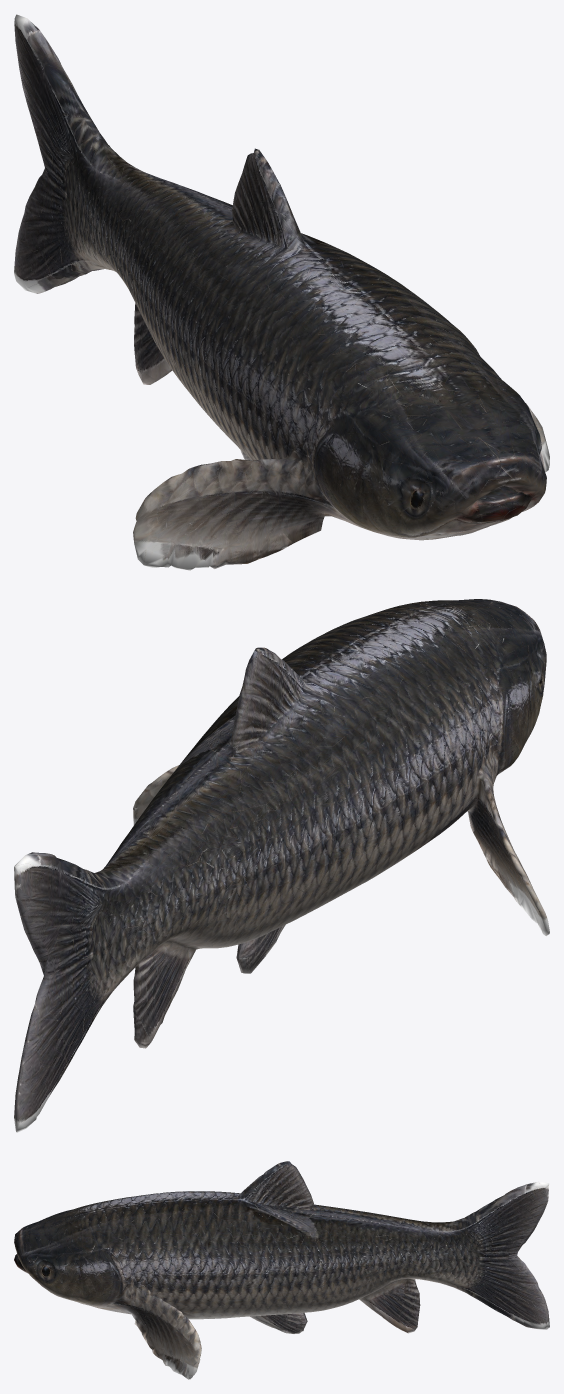
File: fish_blackcarp.glb
The picture shows the model from 3 angles, top to bottom: view 1: azimuth 30°, elevation 25°; view 2: azimuth 150°, elevation 25°; view 3: azimuth 270°, elevation 25°; orthographic projection. The views are drawn at different scales.
Parts seen in each view (by area): view 1: geometry_0; view 2: geometry_0; view 3: geometry_0.
Part boxes in pixels (x1,y1,x2,y2): geometry_0: (14, 14, 549, 570); geometry_0: (14, 599, 549, 1132); geometry_0: (14, 1161, 549, 1379).
Bounding box in the file's own units: 0.9534 × 0.7001 × 1.96.
1 material, 1 textured.
